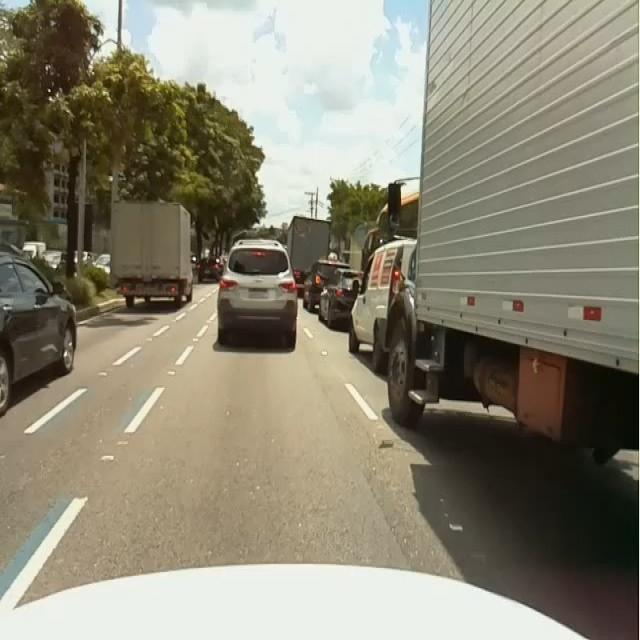car: (0, 254, 76, 412), (218, 240, 298, 350), (350, 239, 415, 370), (319, 269, 361, 328), (302, 259, 349, 311)
lorry: (379, 0, 639, 462), (111, 202, 192, 307), (288, 216, 329, 296)
